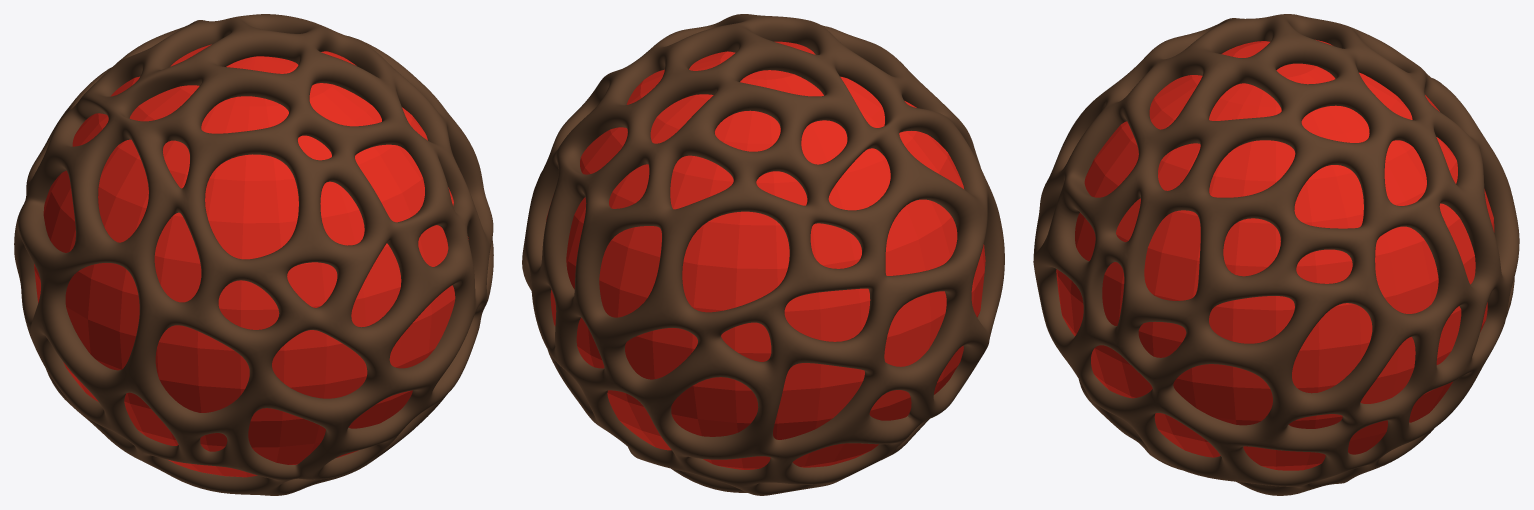
3 views of the same model, side by side, from view 1: azimuth 30°, elevation 25°; view 2: azimuth 150°, elevation 25°; view 3: azimuth 270°, elevation 25° (orthographic).
Visible parts, largest first — view 1: voronoi, Sphere; view 2: voronoi, Sphere; view 3: voronoi, Sphere.
Boxes of the visible parts, x1=… form: voronoi: x1=14, y1=14, x2=493, y2=495; Sphere: x1=34, y1=44, x2=468, y2=477; voronoi: x1=522, y1=14, x2=1004, y2=495; Sphere: x1=546, y1=41, x2=985, y2=469; voronoi: x1=1033, y1=14, x2=1519, y2=495; Sphere: x1=1056, y1=39, x2=1494, y2=470.
Bounding box in the file's own units: 2.19 × 2.18 × 2.19.
